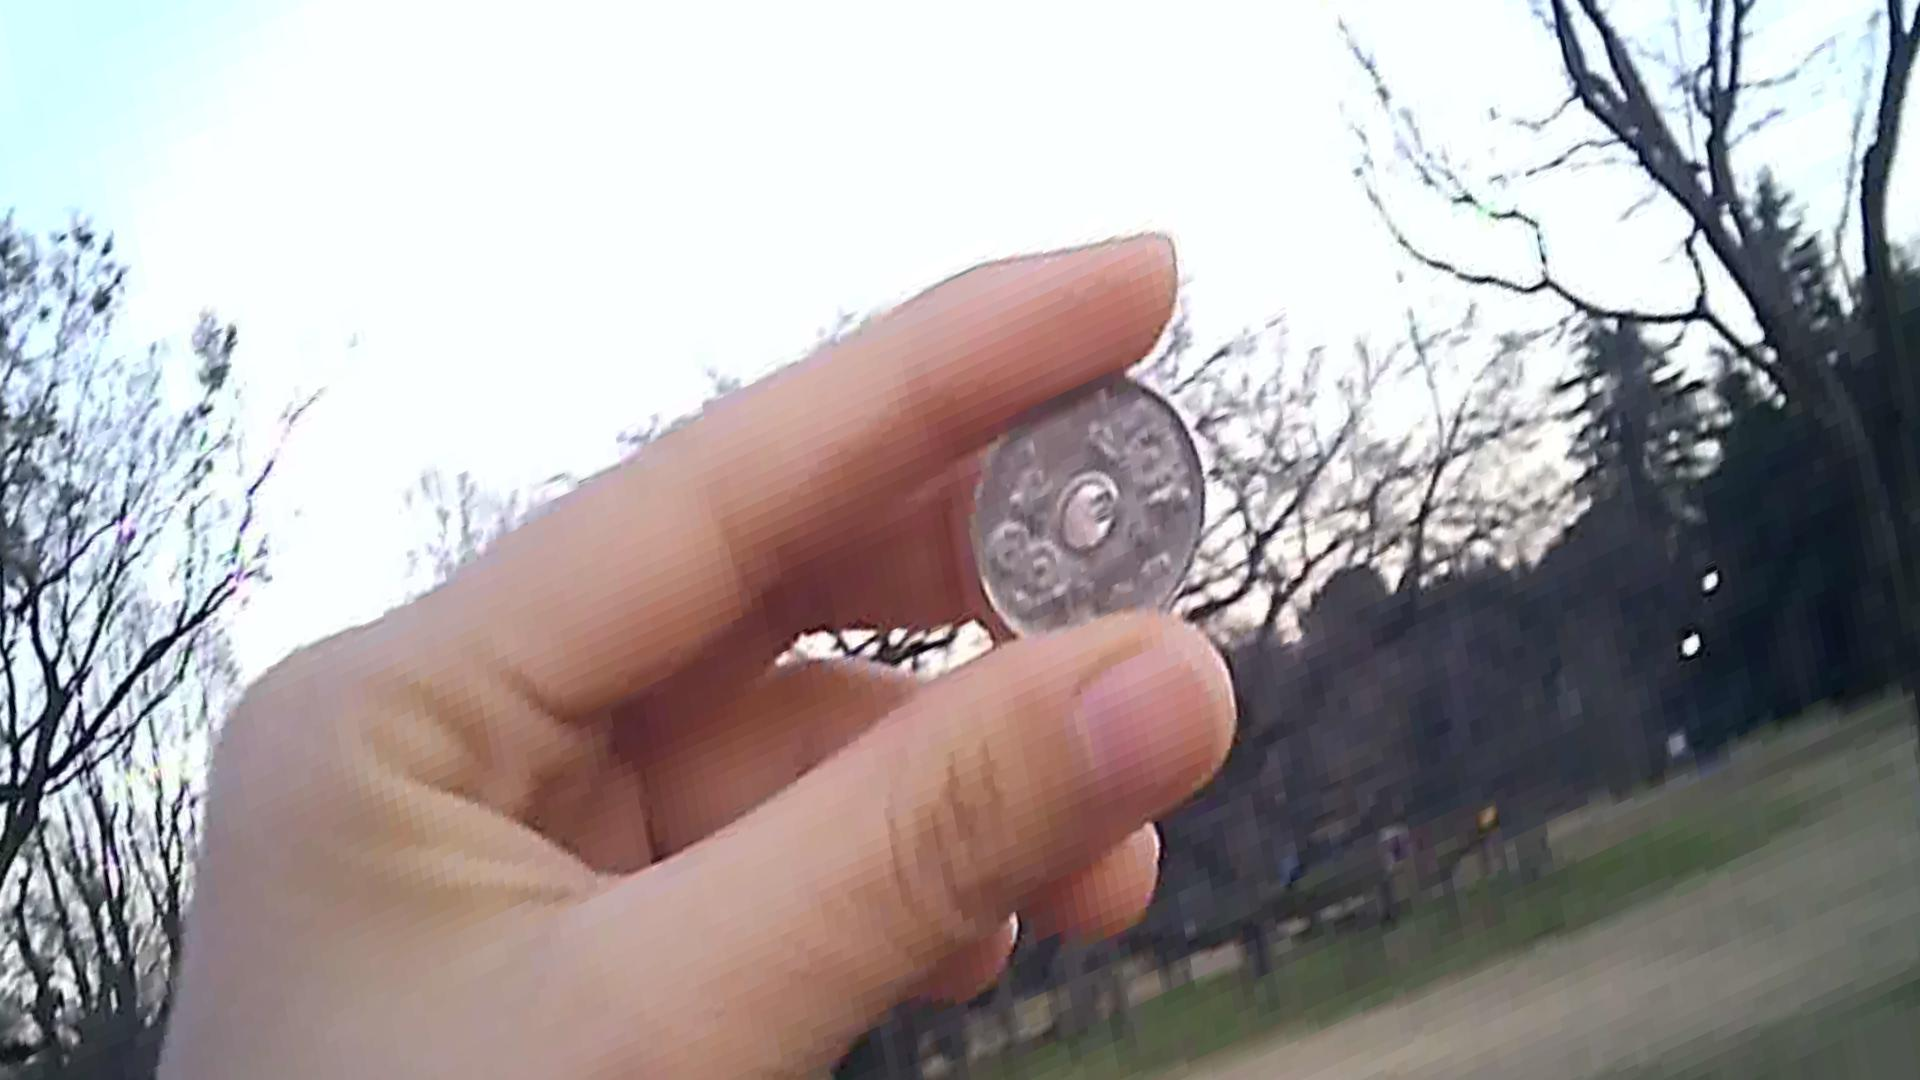50 Yen: (952, 378, 1212, 662)
